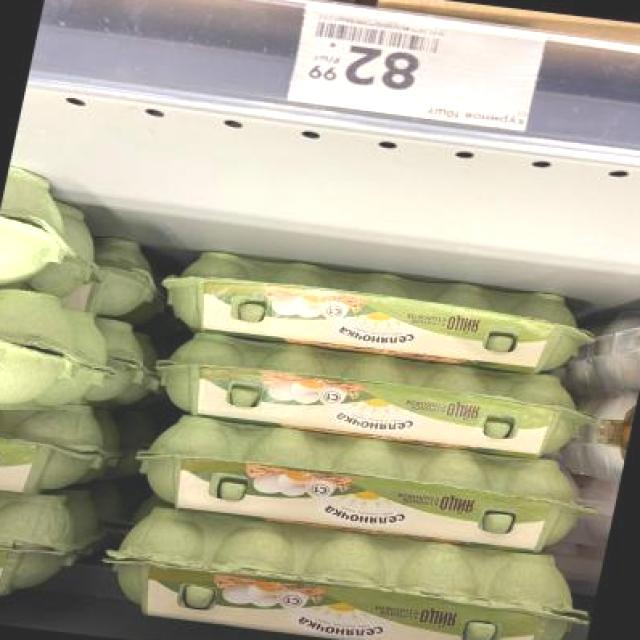egg: (91, 505, 604, 640), (127, 415, 600, 558), (153, 242, 602, 382), (146, 327, 595, 467), (0, 288, 116, 428), (0, 472, 100, 612), (0, 397, 119, 507)
